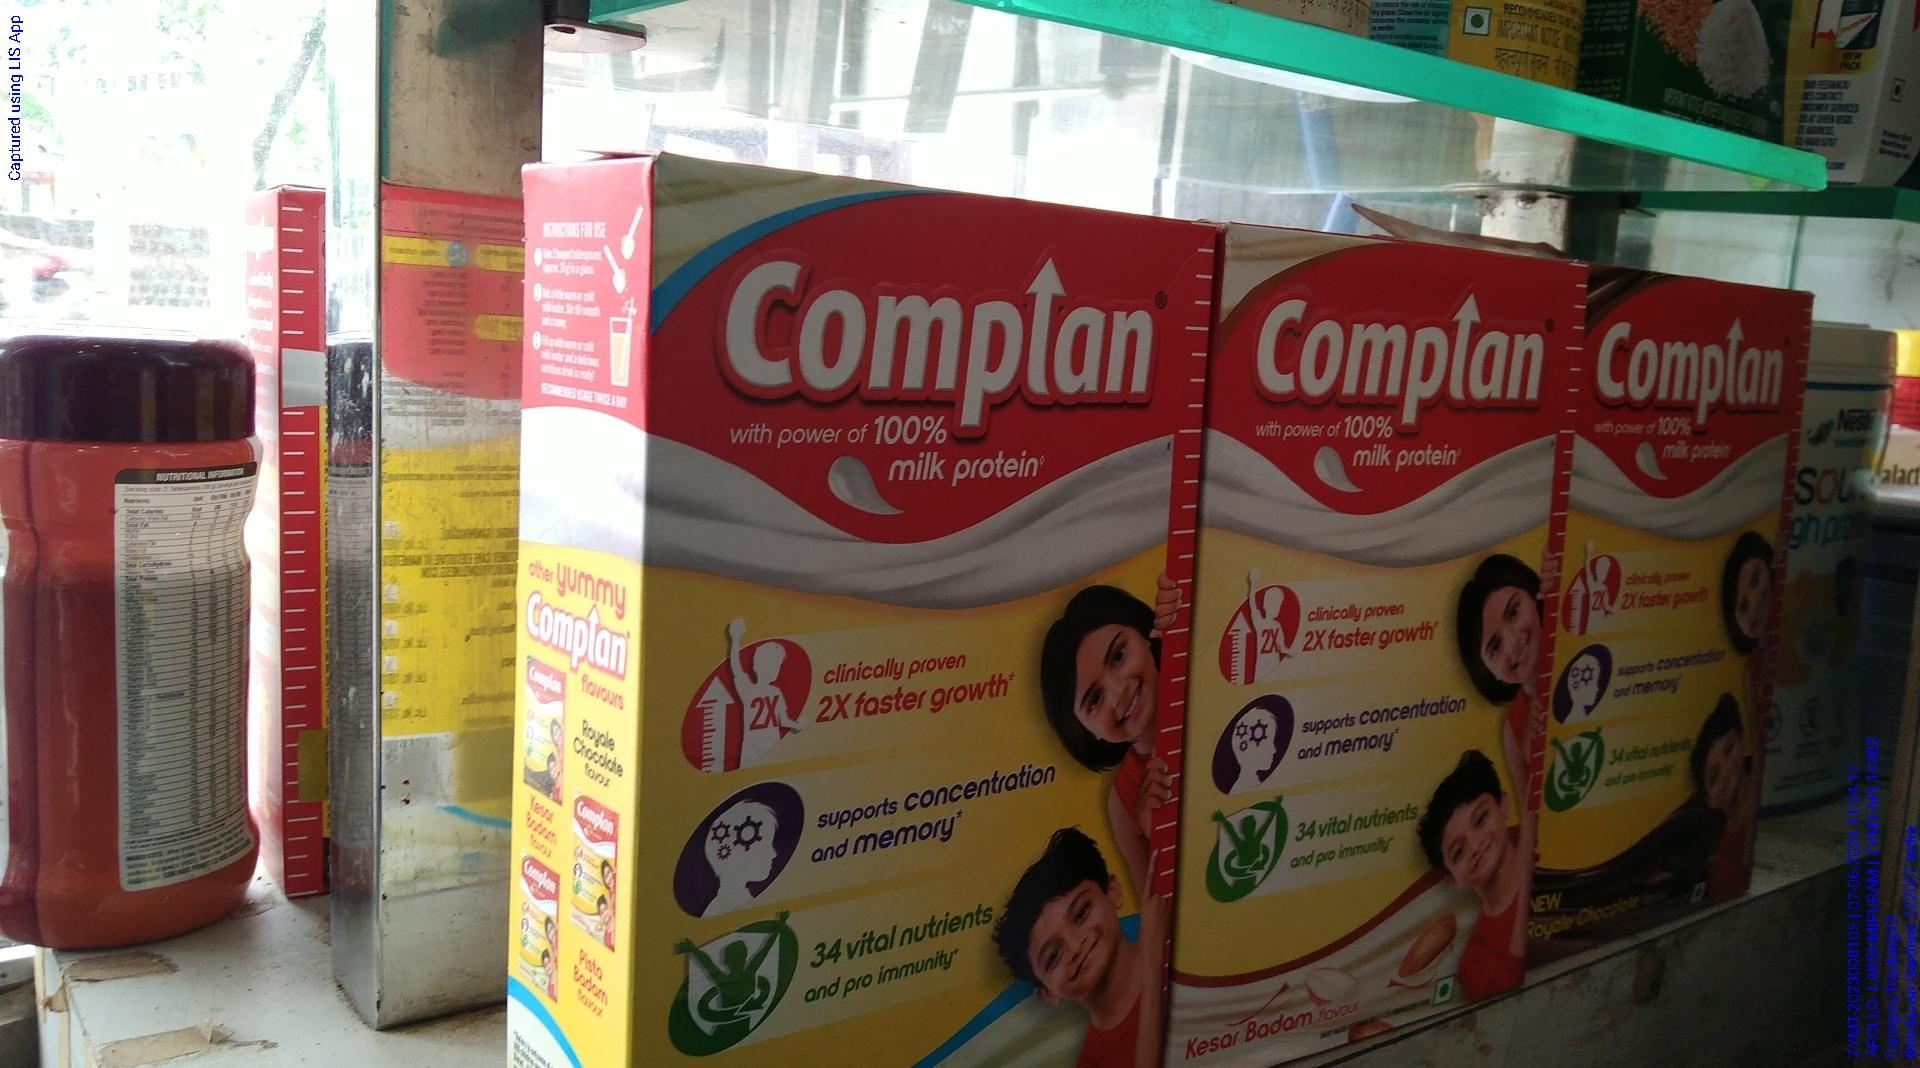COMPLAN_CHOCOLATE_500_GMS_PACK: (1552, 268, 1804, 939)
COMPLAN_CREAMY_CLASSIC_500_G_PACK: (642, 159, 1181, 1068)
COMPLAN_KESAR_BADAM_500_GMS_PACK: (1185, 225, 1549, 1056)
